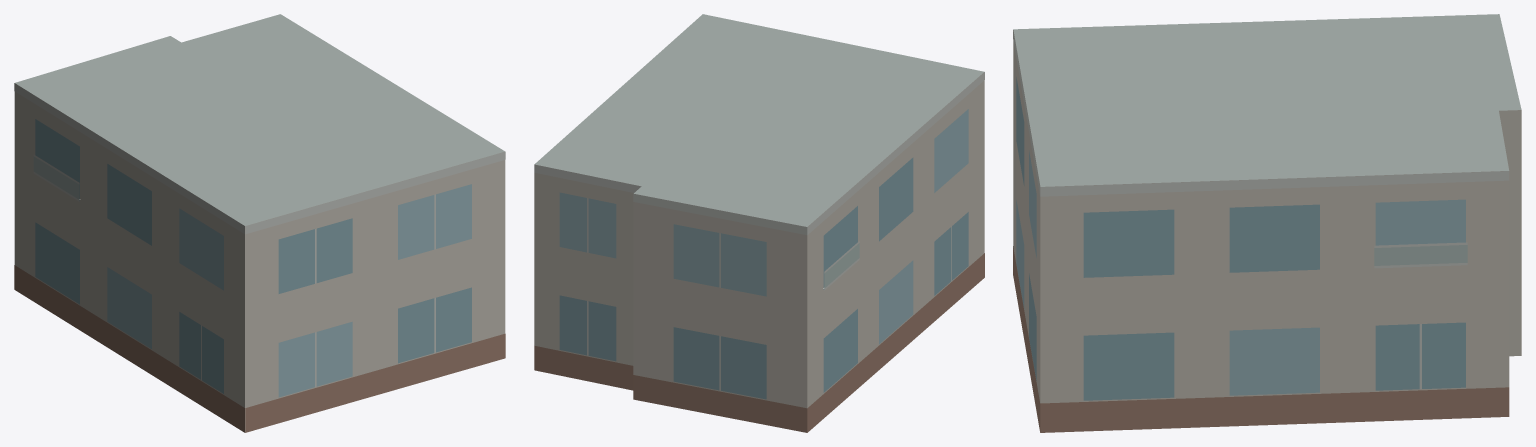
File: survey-upis-32928316.glb
3 renders of one model, left to right at view 1: azimuth 30°, elevation 25°; view 2: azimuth 150°, elevation 25°; view 3: azimuth 270°, elevation 25°, orthographic. The views are drawn at different scales.
Visible parts, largest first — view 1: survey-upis-32928316.tmp; view 2: survey-upis-32928316.tmp; view 3: survey-upis-32928316.tmp.
Boxes of the visible parts, box(x1,y1,x2,y2) form: survey-upis-32928316.tmp: box(14, 14, 505, 432); survey-upis-32928316.tmp: box(534, 14, 984, 432); survey-upis-32928316.tmp: box(1013, 14, 1521, 432).
Size of the model in its own units: 9.21 by 6.1 by 11.44.
